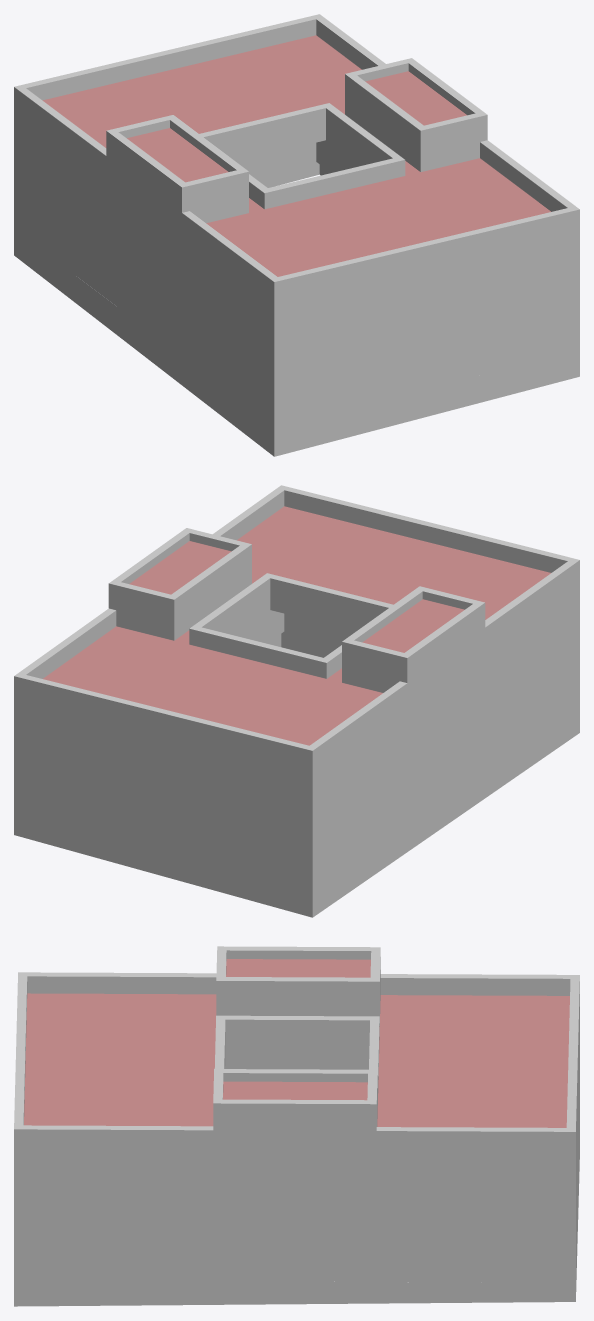
File: LOD_Block_4_44.glb
3 views of the same model, one above another, from view 1: azimuth 30°, elevation 25°; view 2: azimuth 150°, elevation 25°; view 3: azimuth 270°, elevation 25° (orthographic). The views are drawn at different scales.
Visible parts, largest first — view 1: mesh_CityEngineMaterial_670; view 2: mesh_CityEngineMaterial_670; view 3: mesh_CityEngineMaterial_670.
Boxes of the visible parts, bbox=[...] form: mesh_CityEngineMaterial_670: bbox=[14, 14, 579, 456]; mesh_CityEngineMaterial_670: bbox=[14, 485, 579, 917]; mesh_CityEngineMaterial_670: bbox=[14, 946, 579, 1306].
Bounding box in the file's own units: 20.06 × 12.43 × 30.08.
